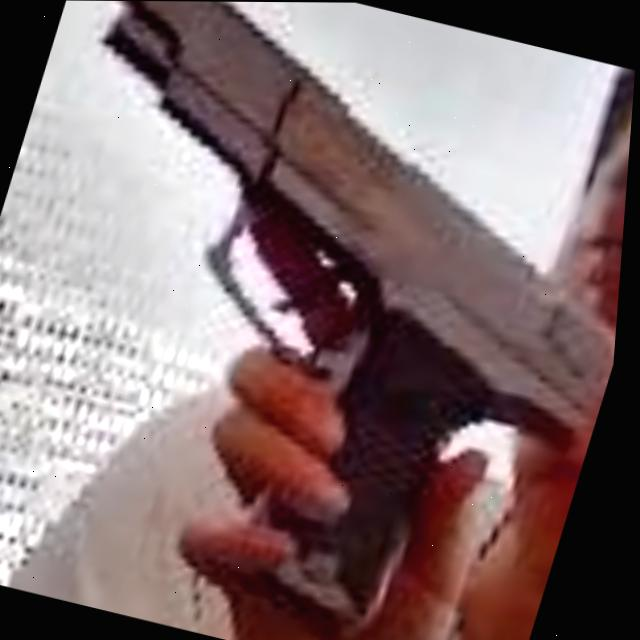pistol: (0, 0, 640, 640), (103, 1, 621, 640)
